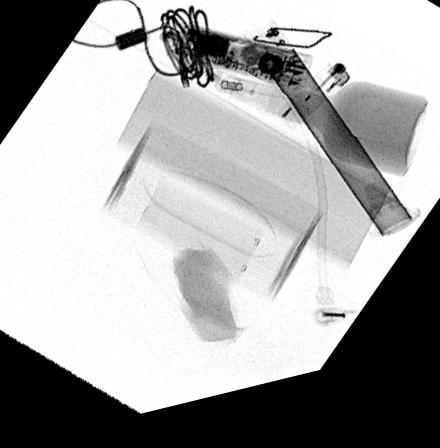Lighter: (275, 78, 350, 139)
